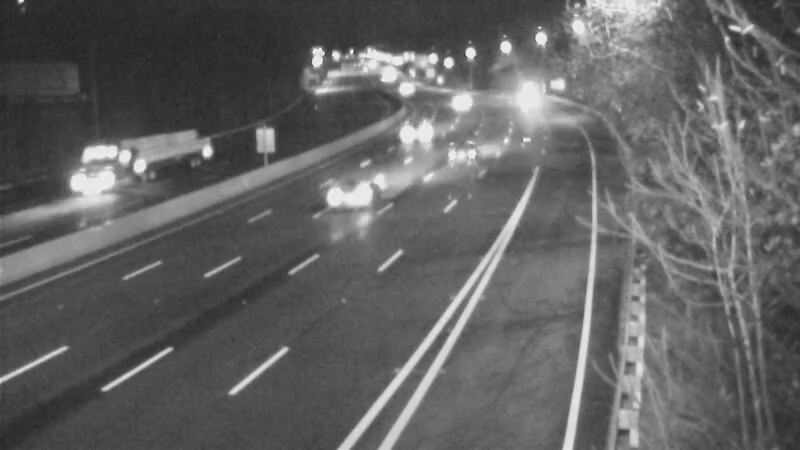vehicle: (328, 147, 408, 227), (94, 124, 174, 204), (376, 65, 426, 115), (436, 79, 486, 129), (500, 76, 550, 126), (400, 105, 450, 155), (439, 123, 489, 173)
